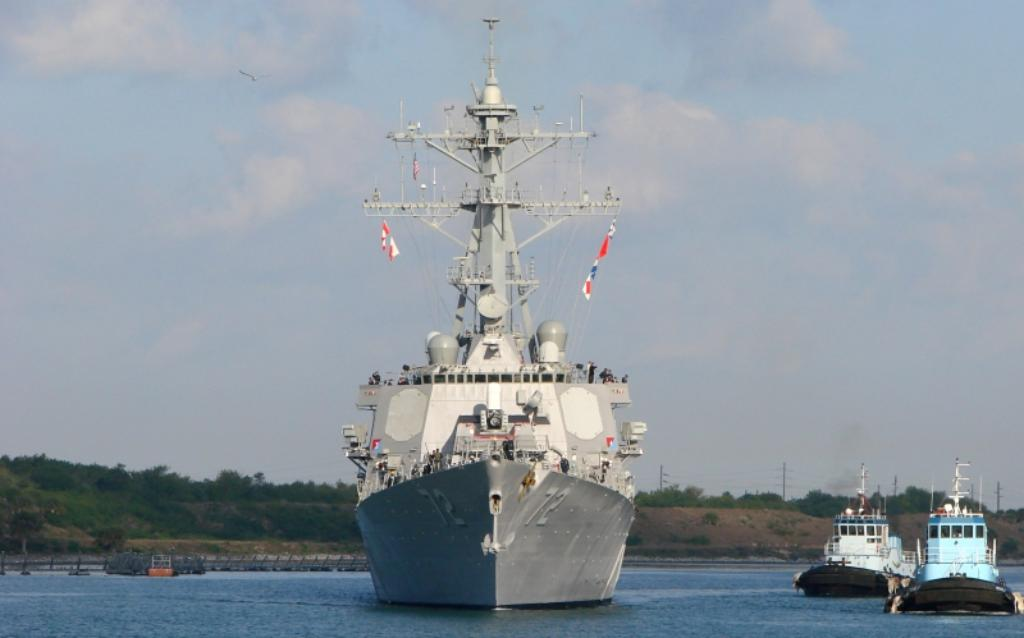Warship: (338, 16, 652, 614)
